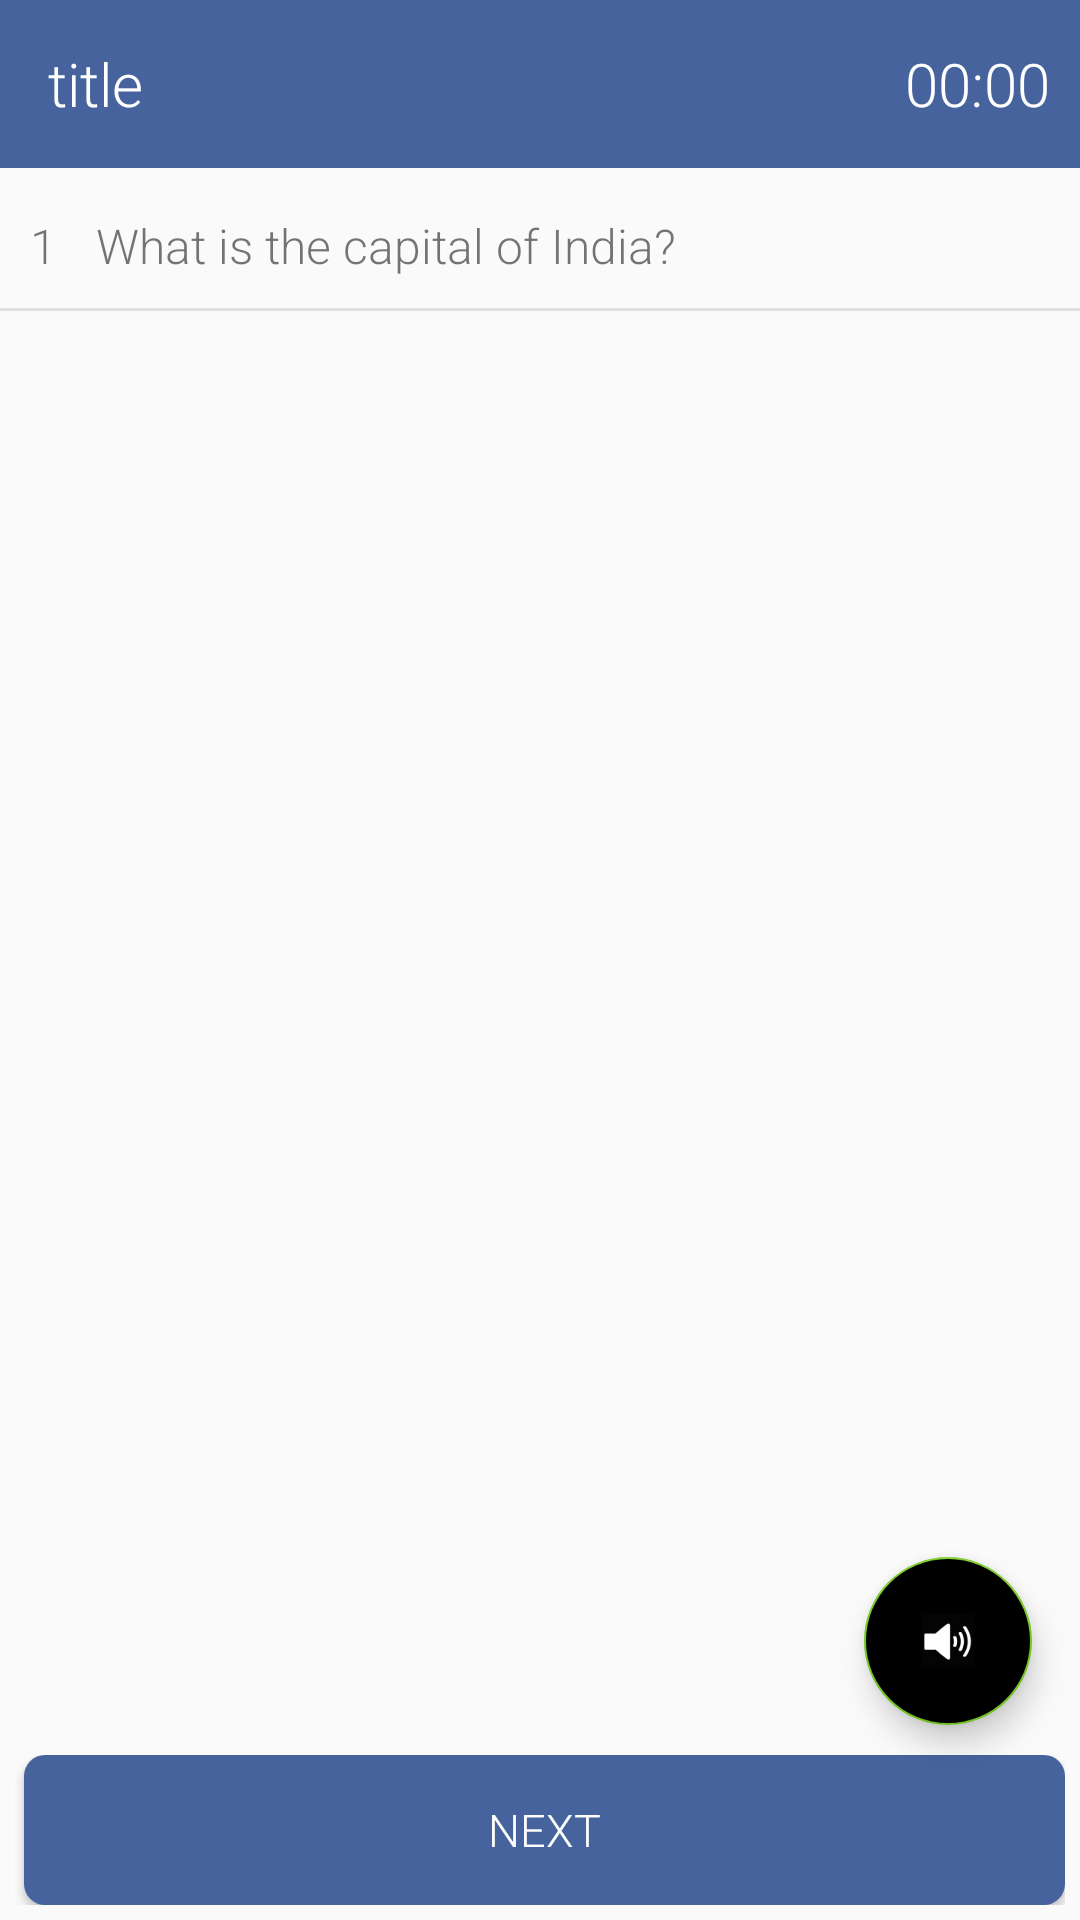

Named icons in this screenshot (1080w x 1920h) and their centers, [x,y]:
speaker: [948,1641]
